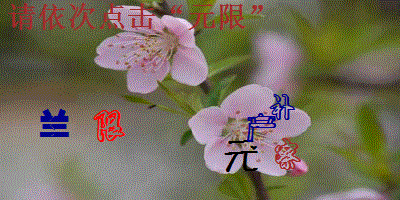text: (223, 138, 261, 173), (37, 107, 71, 140), (93, 109, 126, 143), (272, 137, 302, 171), (245, 112, 277, 143), (270, 92, 297, 122)
